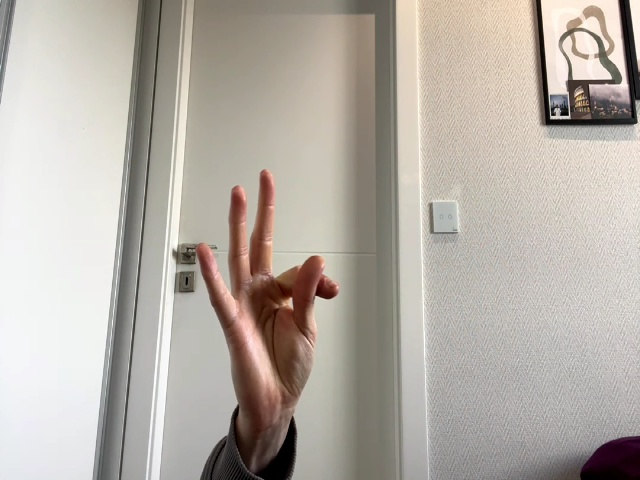T: (195, 169, 339, 404)
